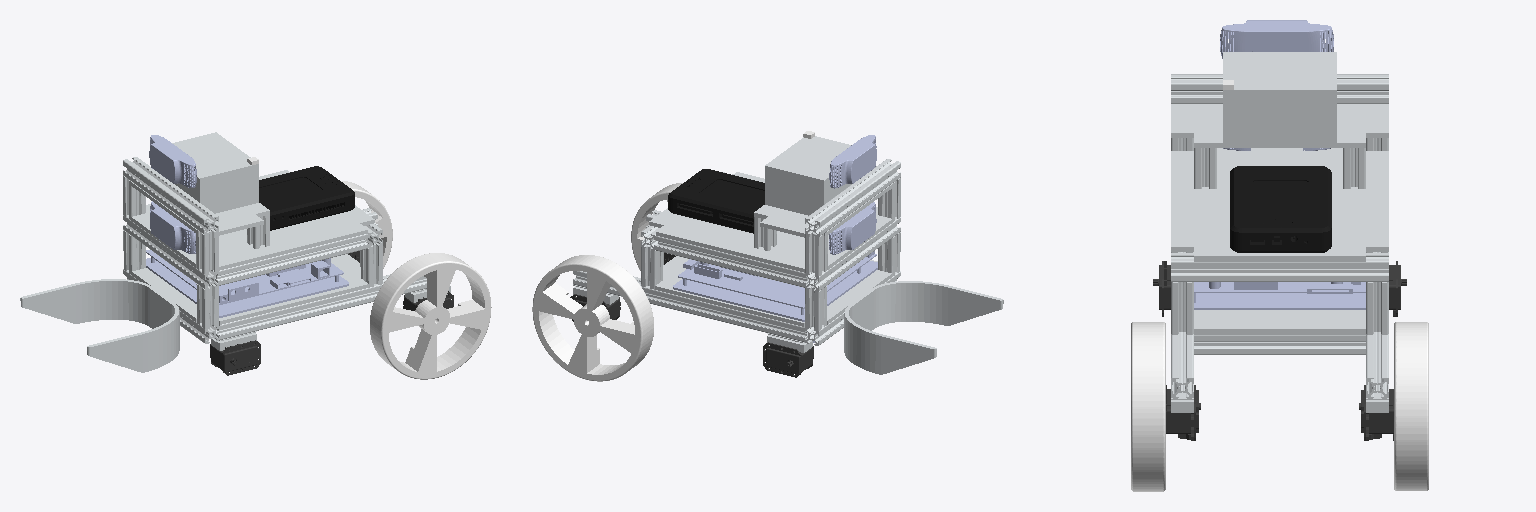
--- Render facts (derived) ---
3 views of the same robot in one strip: view 1: azimuth 30°, elevation 25°; view 2: azimuth 150°, elevation 25°; view 3: azimuth 270°, elevation 25° (orthographic).
Robot: modification — 21 links, 20 joints (4 continuous, 4 prismatic, 12 fixed); root link base_link; default pose: every joint at zero.
Visible links, largest first — view 1: base_link, left_rear_wheel, pusher, nvidia, myrio, camera2, camera, left_front_wheel_motor, right_rear_wheel; view 2: base_link, right_rear_wheel, pusher, nvidia, myrio, camera2, camera, right_front_wheel_motor, left_rear_wheel; view 3: base_link, myrio, left_rear_wheel, right_rear_wheel, nvidia, camera2, right_rear_wheel_motor, left_rear_wheel_motor, right_front_wheel_motor, left_front_wheel_motor.
Boxes of the visible links, <box> form: base_link: <box>123,132,426,343</box>; left_rear_wheel: <box>370,253,491,379</box>; pusher: <box>20,279,179,372</box>; nvidia: <box>146,250,348,317</box>; myrio: <box>259,166,354,230</box>; camera2: <box>149,135,196,187</box>; camera: <box>150,201,195,253</box>; left_front_wheel_motor: <box>210,340,260,375</box>; right_rear_wheel: <box>341,181,392,268</box>; base_link: <box>573,136,900,345</box>; right_rear_wheel: <box>532,255,653,381</box>; pusher: <box>844,281,1003,374</box>; nvidia: <box>673,251,877,321</box>; myrio: <box>668,169,764,233</box>; camera2: <box>829,135,876,188</box>; camera: <box>829,202,876,254</box>; right_front_wheel_motor: <box>763,342,813,377</box>; left_rear_wheel: <box>631,183,682,270</box>; base_link: <box>1171,52,1388,399</box>; myrio: <box>1230,166,1331,252</box>; left_rear_wheel: <box>1131,322,1165,491</box>; right_rear_wheel: <box>1394,322,1428,490</box>; nvidia: <box>1194,282,1365,309</box>; camera2: <box>1220,20,1333,58</box>; right_rear_wheel_motor: <box>1359,385,1393,440</box>; left_rear_wheel_motor: <box>1166,385,1200,440</box>; right_front_wheel_motor: <box>1389,261,1406,316</box>; left_front_wheel_motor: <box>1153,261,1170,316</box>.
Size in the robot's own frame: 0.5132 by 0.2595 by 0.3079 metres.
18 mesh visuals loaded from 21 distinct referenced files (18 binary STL); not drawn: 3 (reference not matched to a file when rendering).

robot.urdf — modification:
<?xml version="1.0" encoding="utf-8"?>
<!-- This URDF was automatically created by SolidWorks to URDF Exporter! Originally created by Stephen Brawner ([email redacted]) 
     Commit Version: 1.5.1-0-g916b5db  Build Version: 1.5.7152.31018
     For more information, please see http://wiki.ros.org/sw_urdf_exporter -->
<robot
  name="modification">
  <link
    name="base_link">
    <inertial>
      <origin
        xyz="0.24141120119322 -0.178241785462233 0.0415284796919271"
        rpy="0 0 0" />
      <mass
        value="1.69979293302631" />
      <inertia
        ixx="0.00304852294395147"
        ixy="-4.96611987057807E-12"
        ixz="-3.08273242917512E-05"
        iyy="0.00537644490360057"
        iyz="1.30962753176285E-11"
        izz="0.00827246382315816" />
    </inertial>
    <visual>
      <origin
        xyz="0 0 0"
        rpy="0 0 0" />
      <geometry>
        <mesh
          filename="package://modification/meshes/base_link.STL" />
      </geometry>
      <material
        name="">
        <color
          rgba="0.898039215686275 0.917647058823529 0.929411764705882 1" />
      </material>
    </visual>
    <collision>
      <origin
        xyz="0 0 0"
        rpy="0 0 0" />
      <geometry>
        <mesh
          filename="package://modification/meshes/base_link.STL" />
      </geometry>
    </collision>
  </link>
  <link
    name="left_front_wheel_suspension">
    <inertial>
      <origin
        xyz="0.0010613 -0.0049997 0.0068607"
        rpy="0 0 0" />
      <mass
        value="0.023946" />
      <inertia
        ixx="1.0721E-06"
        ixy="-6.5525E-21"
        ixz="5.16E-22"
        iyy="5.9742E-06"
        iyz="-1.4286E-22"
        izz="5.3013E-06" />
    </inertial>
    <visual>
      <origin
        xyz="0 0 0"
        rpy="0 0 0" />
      <geometry>
        <mesh
          filename="package://modification/meshes/left_front_wheel_suspension.STL" />
      </geometry>
      <material
        name="">
        <color
          rgba="0.89804 0.91765 0.92941 1" />
      </material>
    </visual>
    <collision>
      <origin
        xyz="0 0 0"
        rpy="0 0 0" />
      <geometry>
        <mesh
          filename="package://modification/meshes/left_front_wheel_suspension.STL" />
      </geometry>
    </collision>
  </link>
  <joint
    name="left_front_wheel_suspension_joint"
    type="prismatic">
    <origin
      xyz="0.17302 -0.25638 -0.025183"
      rpy="1.5708 -0.0058285 0" />
    <parent
      link="base_link" />
    <child
      link="left_front_wheel_suspension" />
    <axis
      xyz="0 1 0" />
    <limit
      lower="0"
      upper="0.008"
      effort="1000"
      velocity="1000" />
  </joint>
  <link
    name="left_front_wheel_motor">
    <inertial>
      <origin
        xyz="-2.7958E-05 0.002418 -0.019797"
        rpy="0 0 0" />
      <mass
        value="0.041167" />
      <inertia
        ixx="1.155E-05"
        ixy="-2.9641E-09"
        ixz="-1.6485E-08"
        iyy="6.938E-06"
        iyz="1.5645E-07"
        izz="9.579E-06" />
    </inertial>
    <visual>
      <origin
        xyz="0 0 0"
        rpy="0 0 0" />
      <geometry>
        <mesh
          filename="package://modification/meshes/left_front_wheel_motor.STL" />
      </geometry>
      <material
        name="">
        <color
          rgba="0.29804 0.29804 0.29804 1" />
      </material>
    </visual>
    <collision>
      <origin
        xyz="0 0 0"
        rpy="0 0 0" />
      <geometry>
        <mesh
          filename="package://modification/meshes/left_front_wheel_motor.STL" />
      </geometry>
    </collision>
  </link>
  <joint
    name="left_front_wheel_motor_joint"
    type="fixed">
    <origin
      xyz="0.0003 -0.021785 -0.01"
      rpy="3.1416 0 -1.5708" />
    <parent
      link="left_front_wheel_suspension" />
    <child
      link="left_front_wheel_motor" />
    <axis
      xyz="0 0 0" />
    <limit
      effort="3.1"
      velocity="7" />
  </joint>
  <link
    name="left_front_wheel">
    <inertial>
      <origin
        xyz="0.0227 2.7331E-06 -0.00046892"
        rpy="0 0 0" />
      <mass
        value="0.22822" />
      <inertia
        ixx="0.00078921"
        ixy="1.3506E-20"
        ixz="3.9097E-18"
        iyy="0.00041043"
        iyz="-2.8629E-19"
        izz="0.00041043" />
    </inertial>
    <visual>
      <origin
        xyz="0 0 0"
        rpy="0 0 0" />
      <geometry>
        <mesh
          filename="package://modification/meshes/left_front_wheel.STL" />
      </geometry>
      <material
        name="">
        <color
          rgba="1 1 1 1" />
      </material>
    </visual>
    <collision>
      <origin
        xyz="0 0 0"
        rpy="0 0 0" />
      <geometry>
        <mesh
          filename="package://modification/meshes/left_front_wheel.STL" />
      </geometry>
    </collision>
  </link>
  <joint
    name="left_front_wheel_joint"
    type="continuous">
    <origin
      xyz="0 0.0133000000000001 -0.0247499999999968"
      rpy="1.56496784847997 1.5707963267949 0" />
    <parent
      link="left_front_wheel_motor" />
    <child
      link="left_front_wheel" />
    <axis
      xyz="1 0 0" />
    <limit
      effort="3.1"
      velocity="7" />
  </joint>
  <link
    name="right_front_wheel_suspension">
    <inertial>
      <origin
        xyz="0.0010613 -0.0049997 0.0068607"
        rpy="0 0 0" />
      <mass
        value="0.023946" />
      <inertia
        ixx="1.0721E-06"
        ixy="-5.8329E-21"
        ixz="1.708E-21"
        iyy="5.9742E-06"
        iyz="5.9434E-23"
        izz="5.3013E-06" />
    </inertial>
    <visual>
      <origin
        xyz="0 0 0"
        rpy="0 0 0" />
      <geometry>
        <mesh
          filename="package://modification/meshes/right_front_wheel_suspension.STL" />
      </geometry>
      <material
        name="">
        <color
          rgba="0.89804 0.91765 0.92941 1" />
      </material>
    </visual>
    <collision>
      <origin
        xyz="0 0 0"
        rpy="0 0 0" />
      <geometry>
        <mesh
          filename="package://modification/meshes/right_front_wheel_suspension.STL" />
      </geometry>
    </collision>
  </link>
  <joint
    name="right_front_wheel_suspension_joint"
    type="prismatic">
    <origin
      xyz="0.17302 -0.086381 -0.025183"
      rpy="1.5708 -0.0058285 0" />
    <parent
      link="base_link" />
    <child
      link="right_front_wheel_suspension" />
    <axis
      xyz="0 1 0" />
    <limit
      lower="0"
      upper="0.008"
      effort="1000"
      velocity="1000" />
  </joint>
  <link
    name="right_front_wheel_motor">
    <inertial>
      <origin
        xyz="-2.7958E-05 0.002418 -0.0060757"
        rpy="0 0 0" />
      <mass
        value="0.041167" />
      <inertia
        ixx="1.155E-05"
        ixy="-2.9641E-09"
        ixz="-1.6485E-08"
        iyy="6.938E-06"
        iyz="1.5645E-07"
        izz="9.579E-06" />
    </inertial>
    <visual>
      <origin
        xyz="0 0 0"
        rpy="0 0 0" />
      <geometry>
        <mesh
          filename="package://modification/meshes/right_front_wheel_motor.STL" />
      </geometry>
      <material
        name="">
        <color
          rgba="0.29804 0.29804 0.29804 1" />
      </material>
    </visual>
    <collision>
      <origin
        xyz="0 0 0"
        rpy="0 0 0" />
      <geometry>
        <mesh
          filename="package://modification/meshes/right_front_wheel_motor.STL" />
      </geometry>
    </collision>
  </link>
  <joint
    name="right_front_wheel_motor_joint"
    type="fixed">
    <origin
      xyz="0.000299999999999967 -0.021785446729879 0.01"
      rpy="0 0 1.5707963267949" />
    <parent
      link="right_front_wheel_suspension" />
    <child
      link="right_front_wheel_motor" />
    <axis
      xyz="0 0 0" />
    <limit
      effort="3.1"
      velocity="7" />
  </joint>
  <link
    name="right_front_wheel">
    <inertial>
      <origin
        xyz="0.0089785 -2.7331E-06 -0.00046892"
        rpy="0 0 0" />
      <mass
        value="0.22822" />
      <inertia
        ixx="0.00078921"
        ixy="-1.3374E-20"
        ixz="-1.3119E-18"
        iyy="0.00041043"
        iyz="-3.2882E-19"
        izz="0.00041043" />
    </inertial>
    <visual>
      <origin
        xyz="0 0 0"
        rpy="0 0 0" />
      <geometry>
        <mesh
          filename="package://modification/meshes/right_front_wheel.STL" />
      </geometry>
      <material
        name="">
        <color
          rgba="1 1 1 1" />
      </material>
    </visual>
    <collision>
      <origin
        xyz="0 0 0"
        rpy="0 0 0" />
      <geometry>
        <mesh
          filename="package://modification/meshes/right_front_wheel.STL" />
      </geometry>
    </collision>
  </link>
  <joint
    name="right_front_wheel_joint"
    type="continuous">
    <origin
      xyz="0 0.0133 -0.02475"
      rpy="1.57662480510982 1.5707963267949 0" />
    <parent
      link="right_front_wheel_motor" />
    <child
      link="right_front_wheel" />
    <axis
      xyz="1 0 0" />
    <limit
      effort="3.1"
      velocity="7" />
  </joint>
  <link
    name="camera">
    <inertial>
      <origin
        xyz="0.05972 0.011007 0.0086498"
        rpy="0 0 0" />
      <mass
        value="0.043612" />
      <inertia
        ixx="4.2948E-06"
        ixy="8.7977E-10"
        ixz="1.0233E-09"
        iyy="2.2106E-05"
        iyz="1.3219E-08"
        izz="2.3571E-05" />
    </inertial>
    <visual>
      <origin
        xyz="0 0 0"
        rpy="0 0 0" />
      <geometry>
        <mesh
          filename="package://modification/meshes/camera.STL" />
      </geometry>
      <material
        name="">
        <color
          rgba="0.79216 0.81961 0.93333 1" />
      </material>
    </visual>
    <collision>
      <origin
        xyz="0 0 0"
        rpy="0 0 0" />
      <geometry>
        <mesh
          filename="package://modification/meshes/camera.STL" />
      </geometry>
    </collision>
  </link>
  <joint
    name="camera"
    type="fixed">
    <origin
      xyz="0.12729 -0.12117 0.10055"
      rpy="-1.5708 0 -1.5708" />
    <parent
      link="base_link" />
    <child
      link="camera" />
    <axis
      xyz="0 0 0" />
  </joint>
  <link
    name="myrio">
    <inertial>
      <origin
        xyz="0.033311 -0.027515 -0.008197"
        rpy="0 0 0" />
      <mass
        value="0.2728" />
      <inertia
        ixx="0.00018312"
        ixy="9.7818E-08"
        ixz="1.3278E-06"
        iyy="0.00058403"
        iyz="-1.3394E-07"
        izz="0.0004265" />
    </inertial>
    <visual>
      <origin
        xyz="0 0 0"
        rpy="0 0 0" />
      <geometry>
        <mesh
          filename="package://modification/meshes/myrio.STL" />
      </geometry>
      <material
        name="">
        <color
          rgba="0.14902 0.14902 0.14902 1" />
      </material>
    </visual>
    <collision>
      <origin
        xyz="0 0 0"
        rpy="0 0 0" />
      <geometry>
        <mesh
          filename="package://modification/meshes/myrio.STL" />
      </geometry>
    </collision>
  </link>
  <joint
    name="myrio"
    type="fixed">
    <origin
      xyz="0.26104 -0.18563 0.11333"
      rpy="1.5708 -0.0058285 0" />
    <parent
      link="base_link" />
    <child
      link="myrio" />
    <axis
      xyz="0 0 0" />
  </joint>
  <link
    name="intel">
    <inertial>
      <origin
        xyz="-0.00052587 0.0085199 0.055084"
        rpy="0 0 0" />
      <mass
        value="0.39954" />
      <inertia
        ixx="0.00043203"
        ixy="-1.8338E-07"
        ixz="-3.1716E-07"
        iyy="0.00083697"
        iyz="4.7745E-07"
        izz="0.00047302" />
    </inertial>
    <visual>
      <origin
        xyz="0 0 0"
        rpy="0 0 0" />
      <geometry>
        <mesh
          filename="package://modification/meshes/intel.STL" />
      </geometry>
      <material
        name="">
        <color
          rgba="0.79216 0.81961 0.93333 1" />
      </material>
    </visual>
    <collision>
      <origin
        xyz="0 0 0"
        rpy="0 0 0" />
      <geometry>
        <mesh
          filename="package://modification/meshes/intel.STL" />
      </geometry>
    </collision>
  </link>
  <joint
    name="intel"
    type="fixed">
    <origin
      xyz="0.20552 -0.10937 -0.025995"
      rpy="1.5708 -0.0058285 0" />
    <parent
      link="base_link" />
    <child
      link="intel" />
    <axis
      xyz="0 0 0" />
  </joint>
  <link
    name="nvidia">
    <inertial>
      <origin
        xyz="-0.01195 0.017602 -0.16756"
        rpy="0 0 0" />
      <mass
        value="0.24039" />
      <inertia
        ixx="0.00035768"
        ixy="-3.6191E-09"
        ixz="-2.9294E-07"
        iyy="0.00074648"
        iyz="4.0353E-06"
        izz="0.0003994" />
    </inertial>
    <visual>
      <origin
        xyz="0 0 0"
        rpy="0 0 0" />
      <geometry>
        <mesh
          filename="package://modification/meshes/nvidia.STL" />
      </geometry>
      <material
        name="">
        <color
          rgba="0.79216 0.81961 0.93333 1" />
      </material>
    </visual>
    <collision>
      <origin
        xyz="0 0 0"
        rpy="0 0 0" />
      <geometry>
        <mesh
          filename="package://modification/meshes/nvidia.STL" />
      </geometry>
    </collision>
  </link>
  <joint
    name="nvidia"
    type="fixed">
    <origin
      xyz="0.41837 -0.19195 0.036381"
      rpy="-1.5766 0 -1.5708" />
    <parent
      link="base_link" />
    <child
      link="nvidia" />
    <axis
      xyz="0 0 0" />
  </joint>
  <link
    name="pusher ">
    <inertial>
      <origin
        xyz="-0.0065728 -0.046582 0.025332"
        rpy="0 0 0" />
      <mass
        value="0.22566" />
      <inertia
        ixx="0.00042306"
        ixy="1.8219E-09"
        ixz="1.615E-10"
        iyy="0.00092302"
        iyz="-3.2094E-05"
        izz="0.0012554" />
    </inertial>
    <visual>
      <origin
        xyz="0 0 0"
        rpy="0 0 0" />
      <geometry>
        <mesh
          filename="package://modification/meshes/pusher .STL" />
      </geometry>
      <material
        name="">
        <color
          rgba="0.89804 0.91765 0.92941 1" />
      </material>
    </visual>
    <collision>
      <origin
        xyz="0 0 0"
        rpy="0 0 0" />
      <geometry>
        <mesh
          filename="package://modification/meshes/pusher .STL" />
      </geometry>
    </collision>
  </link>
  <joint
    name="pusher "
    type="fixed">
    <origin
      xyz="0.12801 -0.17167 0.0055534"
      rpy="3.1358 0 1.5708" />
    <parent
      link="base_link" />
    <child
      link="pusher " />
    <axis
      xyz="0 0 0" />
    <limit
      lower="0"
      upper="0"
      effort="0"
      velocity="0" />
  </joint>
  <link
    name="camera2">
    <inertial>
      <origin
        xyz="0.05972 0.011015 0.0071499"
        rpy="0 0 0" />
      <mass
        value="0.043612" />
      <inertia
        ixx="4.2948E-06"
        ixy="8.7977E-10"
        ixz="1.0233E-09"
        iyy="2.2106E-05"
        iyz="1.3219E-08"
        izz="2.3571E-05" />
    </inertial>
    <visual>
      <origin
        xyz="0 0 0"
        rpy="0 0 0" />
      <geometry>
        <mesh
          filename="package://modification/meshes/camera2.STL" />
      </geometry>
      <material
        name="">
        <color
          rgba="0.79216 0.81961 0.93333 1" />
      </material>
    </visual>
    <collision>
      <origin
        xyz="0 0 0"
        rpy="0 0 0" />
      <geometry>
        <mesh
          filename="package://modification/meshes/camera2.STL" />
      </geometry>
    </collision>
  </link>
  <joint
    name="camera2"
    type="fixed">
    <origin
      xyz="0.12829 -0.12117 0.18555"
      rpy="-1.5708 0 -1.5708" />
    <parent
      link="base_link" />
    <child
      link="camera2" />
    <axis
      xyz="0 0 0" />
  </joint>
  <link
    name="left_rear_wheel_suspension">
    <inertial>
      <origin
        xyz="0.0010613 -0.0049997 0.0068607"
        rpy="0 0 0" />
      <mass
        value="0.023946" />
      <inertia
        ixx="1.0721E-06"
        ixy="7.7147E-21"
        ixz="1.272E-22"
        iyy="5.9742E-06"
        iyz="3.0104E-22"
        izz="5.3013E-06" />
    </inertial>
    <visual>
      <origin
        xyz="0 0 0"
        rpy="0 0 0" />
      <geometry>
        <mesh
          filename="package://modification/meshes/left_rear_wheel_suspension.STL" />
      </geometry>
      <material
        name="">
        <color
          rgba="0.89804 0.91765 0.92941 1" />
      </material>
    </visual>
    <collision>
      <origin
        xyz="0 0 0"
        rpy="0 0 0" />
      <geometry>
        <mesh
          filename="package://modification/meshes/left_rear_wheel_suspension.STL" />
      </geometry>
    </collision>
  </link>
  <joint
    name="left_rear_wheel_suspension_joint"
    type="prismatic">
    <origin
      xyz="0.43301 -0.25638 -0.023763"
      rpy="1.5708 -0.0058285 0" />
    <parent
      link="base_link" />
    <child
      link="left_rear_wheel_suspension" />
    <axis
      xyz="0 1 0" />
    <limit
      lower="0"
      upper="0.008"
      effort="1000"
      velocity="1000" />
  </joint>
  <link
    name="left_rear_wheel_motor">
    <inertial>
      <origin
        xyz="-2.7958E-05 0.002418 -0.019797"
        rpy="0 0 0" />
      <mass
        value="0.041167" />
      <inertia
        ixx="1.155E-05"
        ixy="-2.9641E-09"
        ixz="-1.6485E-08"
        iyy="6.938E-06"
        iyz="1.5645E-07"
        izz="9.579E-06" />
    </inertial>
    <visual>
      <origin
        xyz="0 0 0"
        rpy="0 0 0" />
      <geometry>
        <mesh
          filename="package://modification/meshes/left_rear_wheel_motor.STL" />
      </geometry>
      <material
        name="">
        <color
          rgba="0.29804 0.29804 0.29804 1" />
      </material>
    </visual>
    <collision>
      <origin
        xyz="0 0 0"
        rpy="0 0 0" />
      <geometry>
        <mesh
          filename="package://modification/meshes/left_rear_wheel_motor.STL" />
      </geometry>
    </collision>
  </link>
  <joint
    name="left_rear_wheel_motor_joint"
    type="fixed">
    <origin
      xyz="-0.000300000000000022 -0.021785446729879 -0.01"
      rpy="3.14159265358979 0 -1.5707963267949" />
    <parent
      link="left_rear_wheel_suspension" />
    <child
      link="left_rear_wheel_motor" />
    <axis
      xyz="0 0 0" />
    <limit
      effort="3.1"
      velocity="7" />
  </joint>
  <link
    name="left_rear_wheel">
    <inertial>
      <origin
        xyz="0.0227 2.7331E-06 -0.00046892"
        rpy="0 0 0" />
      <mass
        value="0.22822" />
      <inertia
        ixx="0.00078921"
        ixy="-2.2024E-20"
        ixz="3.9744E-18"
        iyy="0.00041043"
        iyz="-4.1749E-19"
        izz="0.00041043" />
    </inertial>
    <visual>
      <origin
        xyz="0 0 0"
        rpy="0 0 0" />
      <geometry>
        <mesh
          filename="package://modification/meshes/left_rear_wheel.STL" />
      </geometry>
      <material
        name="">
        <color
          rgba="1 1 1 1" />
      </material>
    </visual>
    <collision>
      <origin
        xyz="0 0 0"
        rpy="0 0 0" />
      <geometry>
        <mesh
          filename="package://modification/meshes/left_rear_wheel.STL" />
      </geometry>
    </collision>
  </link>
  <joint
    name="left_rear_wheel_joint"
    type="continuous">
    <origin
      xyz="0 0.0133 -0.0247499999999941"
      rpy="1.56496784847997 1.5707963267949 0" />
    <parent
      link="left_rear_wheel_motor" />
    <child
      link="left_rear_wheel" />
    <axis
      xyz="1 0 0" />
    <limit
      effort="3.1"
      velocity="7" />
  </joint>
  <link
    name="imu">
    <inertial>
      <origin
        xyz="-0.00046893 -0.0048471 0.010612"
        rpy="0 0 0" />
      <mass
        value="0.00051" />
      <inertia
        ixx="5.3125E-09"
        ixy="-5.0826E-24"
        ixz="-1.5775E-25"
        iyy="8.5E-09"
        iyz="-1.535E-25"
        izz="5.3125E-09" />
    </inertial>
    <visual>
      <origin
        xyz="0 0 0"
        rpy="0 0 0" />
      <geometry>
        <mesh
          filename="package://modification/meshes/imu.STL" />
      </geometry>
      <material
        name="">
        <color
          rgba="1 1 1 1" />
      </material>
    </visual>
    <collision>
      <origin
        xyz="0 0 0"
        rpy="0 0 0" />
      <geometry>
        <mesh
          filename="package://modification/meshes/imu.STL" />
      </geometry>
    </collision>
  </link>
  <joint
    name="imu"
    type="fixed">
    <origin
      xyz="0.22185 -0.21263 0.1761"
      rpy="1.5708 -0.0058285 0" />
    <parent
      link="base_link" />
    <child
      link="imu" />
    <axis
      xyz="0 0 0" />
  </joint>
  <link
    name="right_rear_wheel_suspension">
    <inertial>
      <origin
        xyz="0.0010613 -0.0049997 0.0068607"
        rpy="0 0 0" />
      <mass
        value="0.023946" />
      <inertia
        ixx="1.0721E-06"
        ixy="6.9682E-21"
        ixz="1.1317E-21"
        iyy="5.9742E-06"
        iyz="1.9745E-22"
        izz="5.3013E-06" />
    </inertial>
    <visual>
      <origin
        xyz="0 0 0"
        rpy="0 0 0" />
      <geometry>
        <mesh
          filename="package://modification/meshes/right_rear_wheel_suspension.STL" />
      </geometry>
      <material
        name="">
        <color
          rgba="0.89804 0.91765 0.92941 1" />
      </material>
    </visual>
    <collision>
      <origin
        xyz="0 0 0"
        rpy="0 0 0" />
      <geometry>
        <mesh
          filename="package://modification/meshes/right_rear_wheel_suspension.STL" />
      </geometry>
    </collision>
  </link>
  <joint
    name="right_rear_wheel_suspension_joint"
    type="prismatic">
    <origin
      xyz="0.43301 -0.086381 -0.023668"
      rpy="1.5708 -0.0058285 0" />
    <parent
      link="base_link" />
    <child
      link="right_rear_wheel_suspension" />
    <axis
      xyz="0 1 0" />
    <limit
      lower="0"
      upper="0.008"
      effort="1000"
      velocity="1000" />
  </joint>
  <link
    name="right_rear_wheel_motor">
    <inertial>
      <origin
        xyz="-2.7958E-05 0.002418 -0.0060757"
        rpy="0 0 0" />
      <mass
        value="0.041167" />
      <inertia
        ixx="1.155E-05"
        ixy="-2.9641E-09"
        ixz="-1.6485E-08"
        iyy="6.938E-06"
        iyz="1.5645E-07"
        izz="9.579E-06" />
    </inertial>
    <visual>
      <origin
        xyz="0 0 0"
        rpy="0 0 0" />
      <geometry>
        <mesh
          filename="package://modification/meshes/right_rear_wheel_motor.STL" />
      </geometry>
      <material
        name="">
        <color
          rgba="0.29804 0.29804 0.29804 1" />
      </material>
    </visual>
    <collision>
      <origin
        xyz="0 0 0"
        rpy="0 0 0" />
      <geometry>
        <mesh
          filename="package://modification/meshes/right_rear_wheel_motor.STL" />
      </geometry>
    </collision>
  </link>
  <joint
    name="right_rear_wheel_motor_joint"
    type="fixed">
    <origin
      xyz="-0.000300000000000245 -0.021785446729879 0.01"
      rpy="0 0 1.5707963267949" />
    <parent
      link="right_rear_wheel_suspension" />
    <child
      link="right_rear_wheel_motor" />
    <axis
      xyz="0 0 0" />
    <limit
      effort="3.1"
      velocity="7" />
  </joint>
  <link
    name="right_rear_wheel">
    <inertial>
      <origin
        xyz="0.0089785 -2.7331E-06 -0.00046892"
        rpy="0 0 0" />
      <mass
        value="0.22822" />
      <inertia
        ixx="0.00078921"
        ixy="-7.9413E-21"
        ixz="-1.3233E-18"
        iyy="0.00041043"
        iyz="-3.8474E-19"
        izz="0.00041043" />
    </inertial>
    <visual>
      <origin
        xyz="0 0 0"
        rpy="0 0 0" />
      <geometry>
        <mesh
          filename="package://modification/meshes/right_rear_wheel.STL" />
      </geometry>
      <material
        name="">
        <color
          rgba="1 1 1 1" />
      </material>
    </visual>
    <collision>
      <origin
        xyz="0 0 0"
        rpy="0 0 0" />
      <geometry>
        <mesh
          filename="package://modification/meshes/right_rear_wheel.STL" />
      </geometry>
    </collision>
  </link>
  <joint
    name="right_rear_wheel_joint"
    type="continuous">
    <origin
      xyz="0 0.0132999999999999 -0.0247500000000009"
      rpy="1.57662480510982 1.5707963267949 0" />
    <parent
      link="right_rear_wheel_motor" />
    <child
      link="right_rear_wheel" />
    <axis
      xyz="1 0 0" />
    <limit
      effort="3.1"
      velocity="7" />
  </joint>
  <link
    name="lidar">
    <inertial>
      <origin
        xyz="0 0 0"
        rpy="0 0 0" />
      <mass
        value="0" />
      <inertia
        ixx="0"
        ixy="0"
        ixz="0"
        iyy="0"
        iyz="0"
        izz="0" />
    </inertial>
    <visual>
      <origin
        xyz="0 0 0"
        rpy="0 0 0" />
      <geometry>
        <mesh
          filename="package://modification/meshes/lidar.STL" />
      </geometry>
      <material
        name="">
        <color
          rgba="1 1 1 1" />
      </material>
    </visual>
    <collision>
      <origin
        xyz="0 0 0"
        rpy="0 0 0" />
      <geometry>
        <mesh
          filename="package://modification/meshes/lidar.STL" />
      </geometry>
    </collision>
  </link>
  <joint
    name="lidar_joint"
    type="fixed">
    <origin
      xyz="0.27205409893947 -0.0408261666002637 -0.550658139659127"
      rpy="1.5707963267949 -0.0058284783149254 0" />
    <parent
      link="base_link" />
    <child
      link="lidar" />
    <axis
      xyz="0 0 0" />
  </joint>
</robot>
